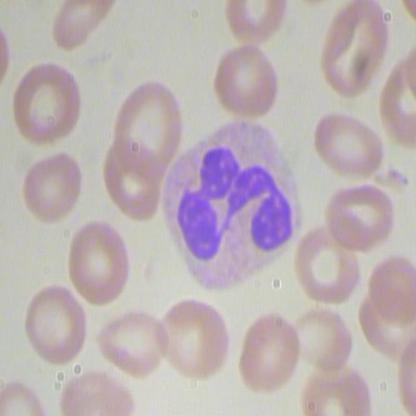RBC: (112, 72, 191, 187), (314, 1, 388, 101), (235, 302, 304, 397), (62, 219, 133, 308), (16, 283, 90, 367), (157, 300, 233, 381), (12, 59, 86, 142), (294, 213, 359, 307), (210, 41, 281, 124), (307, 110, 388, 180), (13, 146, 84, 224), (98, 303, 172, 376), (321, 185, 401, 251), (287, 306, 353, 378)
WBC: (156, 109, 302, 299)
